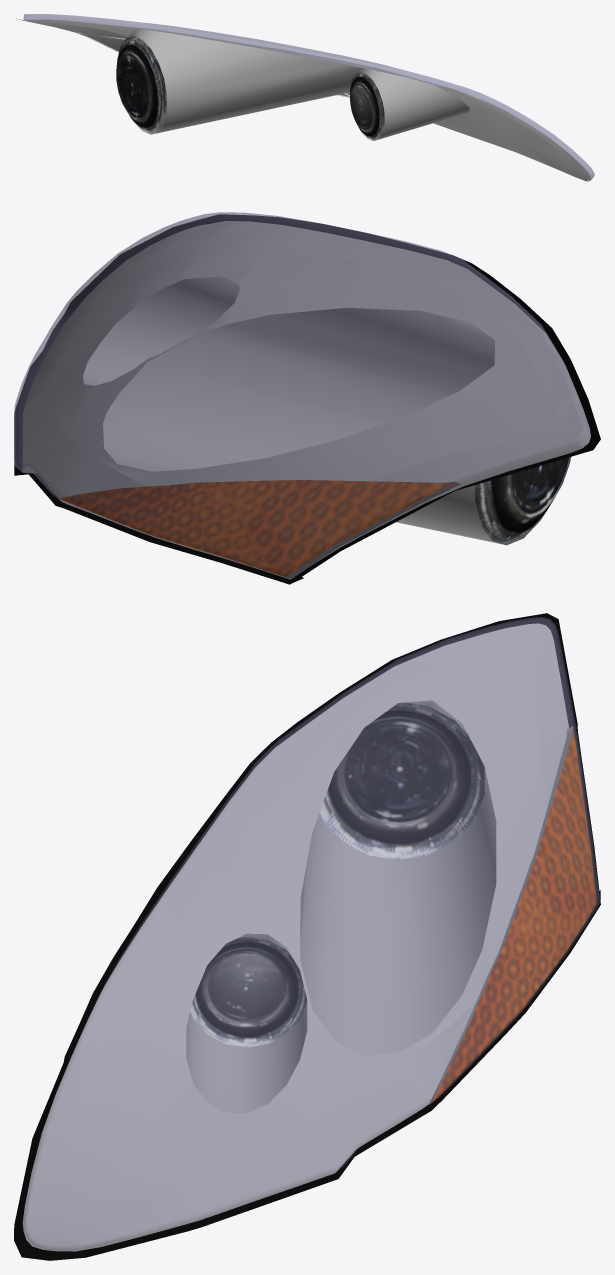
3 renders of one model, top to bottom at view 1: azimuth 30°, elevation 25°; view 2: azimuth 150°, elevation 25°; view 3: azimuth 270°, elevation 25°, orthographic. The views are drawn at different scales.
Visible parts, largest first — view 1: Y613_061B_L_1_DaS_Y613_061B_L, Y613_061B_L_Y613_061B_L_6_DTaSI, Y613_061B_L_Y613_061B_L_2_N, Y613_061B_L_Y613_061B_L_3_N; view 2: Y613_061B_L_Y613_061B_L_6_DTaSI, Y613_061B_L_1_DaS_Y613_061B_L, Y613_061B_L_Y613_061B_L_4_N, Y613_061B_L_Y613_061B_L_7_D, Y613_061B_L_Y613_061B_L_2_N; view 3: Y613_061B_L_Y613_061B_L_6_DTaSI, Y613_061B_L_1_DaS_Y613_061B_L, Y613_061B_L_Y613_061B_L_2_N, Y613_061B_L_Y613_061B_L_4_N, Y613_061B_L_Y613_061B_L_7_D, Y613_061B_L_Y613_061B_L_3_N.
Part boxes in pixels (x1,y1,x2,y2): Y613_061B_L_1_DaS_Y613_061B_L: (24,19,591,180); Y613_061B_L_Y613_061B_L_6_DTaSI: (23,14,594,179); Y613_061B_L_Y613_061B_L_2_N: (116,36,166,134); Y613_061B_L_Y613_061B_L_3_N: (350,72,384,140); Y613_061B_L_Y613_061B_L_6_DTaSI: (14,212,590,579); Y613_061B_L_1_DaS_Y613_061B_L: (22,221,590,579); Y613_061B_L_Y613_061B_L_4_N: (59,480,454,576); Y613_061B_L_Y613_061B_L_7_D: (14,214,600,584); Y613_061B_L_Y613_061B_L_2_N: (475,457,570,545); Y613_061B_L_Y613_061B_L_6_DTaSI: (23,617,600,1251); Y613_061B_L_1_DaS_Y613_061B_L: (22,623,572,1251); Y613_061B_L_Y613_061B_L_2_N: (319,702,484,859); Y613_061B_L_Y613_061B_L_4_N: (431,727,596,1102); Y613_061B_L_Y613_061B_L_7_D: (14,613,600,1260); Y613_061B_L_Y613_061B_L_3_N: (190,937,306,1047).
Size of the model in its own units: 58.44 by 22.41 by 39.65.
